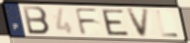4: (54, 6, 75, 36)
B: (21, 5, 52, 36)
E: (100, 9, 132, 37)
F: (74, 7, 101, 36)
L: (154, 10, 180, 38)
V: (125, 8, 152, 39)
